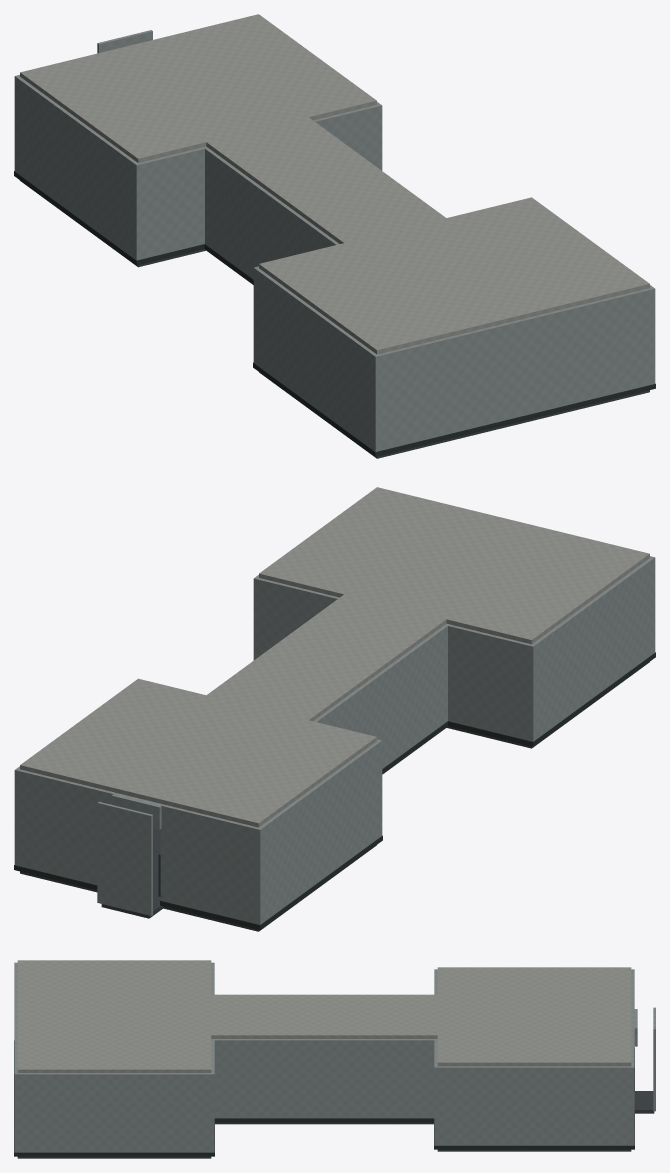
File: floor-shell.glb
The picture shows the model from 3 angles, top to bottom: view 1: azimuth 30°, elevation 25°; view 2: azimuth 150°, elevation 25°; view 3: azimuth 270°, elevation 25°; orthographic projection. The views are drawn at different scales.
Visible parts, largest first — view 1: Ceiling_office, Ceiling_reception, Wall_04, Ceiling_corridor, Wall_02, Wall_09, Wall_05, Wall_07, Wall_08, Baseboard.004, Floor_office, Baseboard.002 (+1 smaller); view 2: Ceiling_office, Ceiling_reception, Ceiling_corridor, Wall_09, Wall_02, Wall_11, Wall_05, Wall_00, Wall_12, Vestibule_back, Wall_01, Floor_reception (+3 smaller); view 3: Ceiling_office, Ceiling_reception, Wall_06, Wall_03, Wall_10, Ceiling_corridor, Baseboard.006, Baseboard.003, Baseboard.010, Floor_corridor, Floor_office, Floor_reception (+6 smaller).
Boxes of the visible parts, x1,y1,x2,y2 form: Ceiling_office: (259, 197, 649, 354); Ceiling_reception: (20, 14, 376, 162); Wall_04: (372, 288, 655, 451); Ceiling_corridor: (206, 117, 445, 243); Wall_02: (255, 268, 380, 451); Wall_09: (14, 75, 135, 258); Wall_05: (205, 148, 339, 279); Wall_07: (133, 146, 207, 260); Wall_08: (313, 103, 382, 170); Baseboard.004: (373, 383, 655, 456); Floor_office: (259, 372, 649, 458); Baseboard.002: (255, 364, 381, 456); Ceiling_office: (259, 487, 649, 644); Ceiling_reception: (20, 678, 376, 827); Ceiling_corridor: (207, 594, 446, 721); Wall_09: (255, 741, 379, 924); Wall_02: (532, 556, 655, 739); Wall_11: (160, 804, 263, 923); Wall_05: (313, 625, 447, 768); Wall_00: (445, 623, 535, 741); Wall_12: (18, 768, 115, 884); Vestibule_back: (97, 801, 152, 915); Wall_01: (253, 576, 339, 660); Floor_reception: (20, 828, 376, 931); Ceiling_office: (17, 960, 211, 1072); Ceiling_reception: (437, 967, 631, 1066); Wall_06: (211, 1039, 437, 1118); Wall_03: (14, 1072, 211, 1152); Wall_10: (437, 1066, 634, 1145); Ceiling_corridor: (211, 994, 437, 1038); Baseboard.006: (215, 1118, 433, 1122); Baseboard.003: (14, 1150, 211, 1156); Baseboard.010: (437, 1145, 634, 1149); Floor_corridor: (215, 1122, 433, 1124); Floor_office: (17, 1156, 211, 1158); Floor_reception: (437, 1149, 631, 1151).
Size of the model in its own units: 8.23 by 3.04 by 19.88.
Materials: 9 (4 with a texture image).
